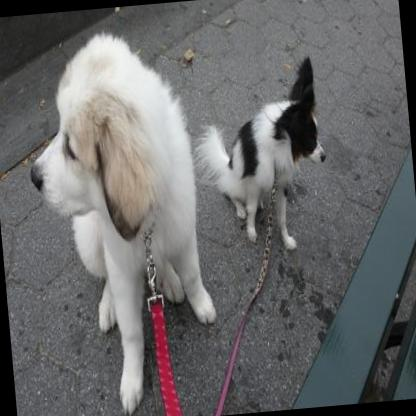Great_Pyrenees: (16, 25, 223, 416)
